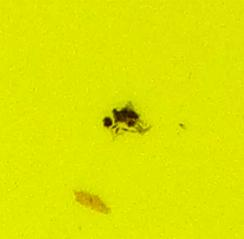Brachycera: (100, 100, 144, 139)
